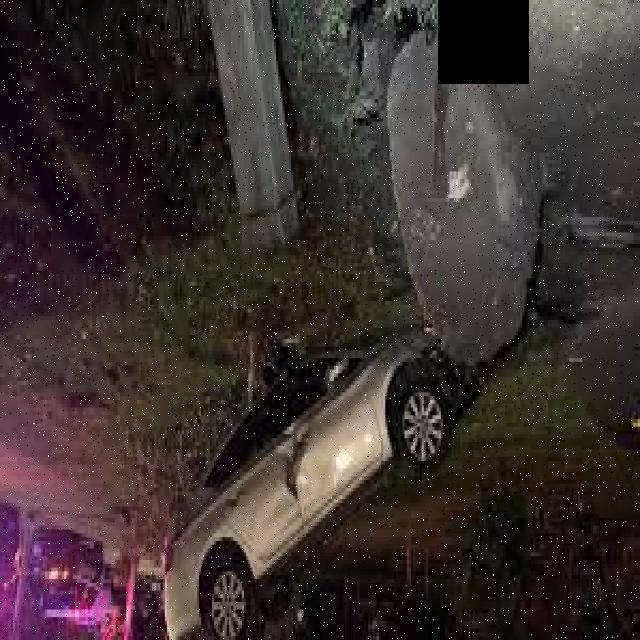severe: (156, 331, 464, 640)
